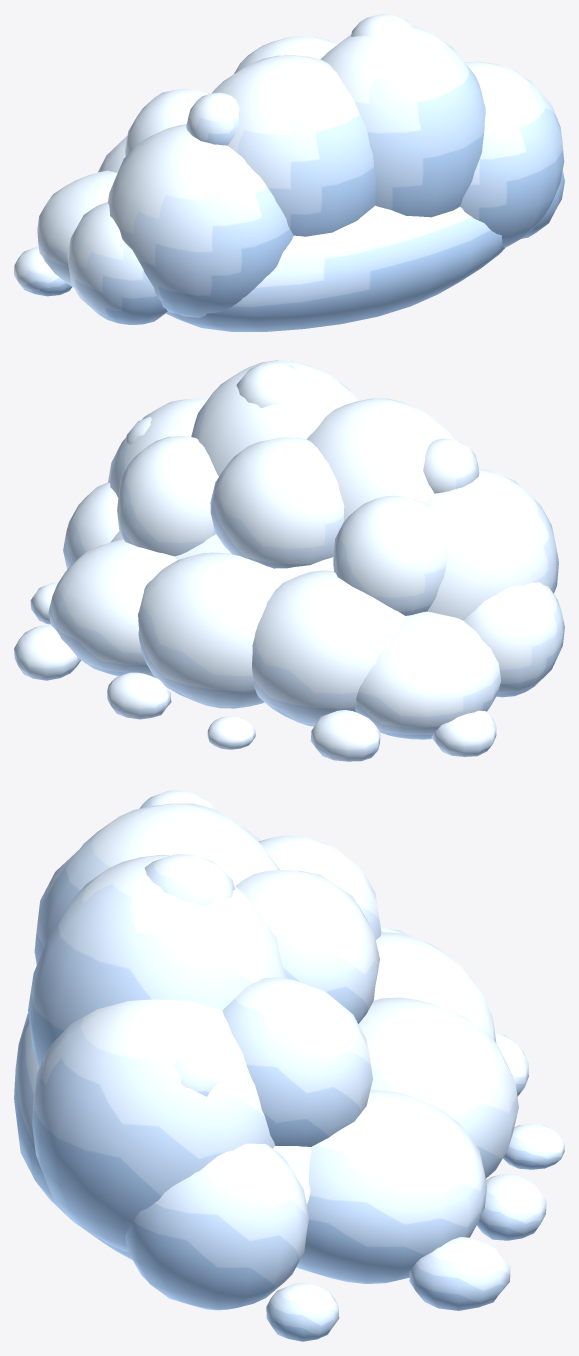
File: nyanisyarud-snow-avalanche.glb
3 views of the same model, one above another, from view 1: azimuth 30°, elevation 25°; view 2: azimuth 150°, elevation 25°; view 3: azimuth 270°, elevation 25° (orthographic). The views are drawn at different scales.
Visible parts, largest first — view 1: Anime_Avalanche_Snow_Wave; view 2: Anime_Avalanche_Snow_Wave; view 3: Anime_Avalanche_Snow_Wave.
Part boxes in pixels (x1=…): Anime_Avalanche_Snow_Wave: x1=14, y1=14, x2=564, y2=331; Anime_Avalanche_Snow_Wave: x1=14, y1=360, x2=564, y2=761; Anime_Avalanche_Snow_Wave: x1=14, y1=790, x2=564, y2=1341.
Size of the model in its own units: 6.46 by 3.28 by 4.59.
Materials: 1 (1 with a texture image).
